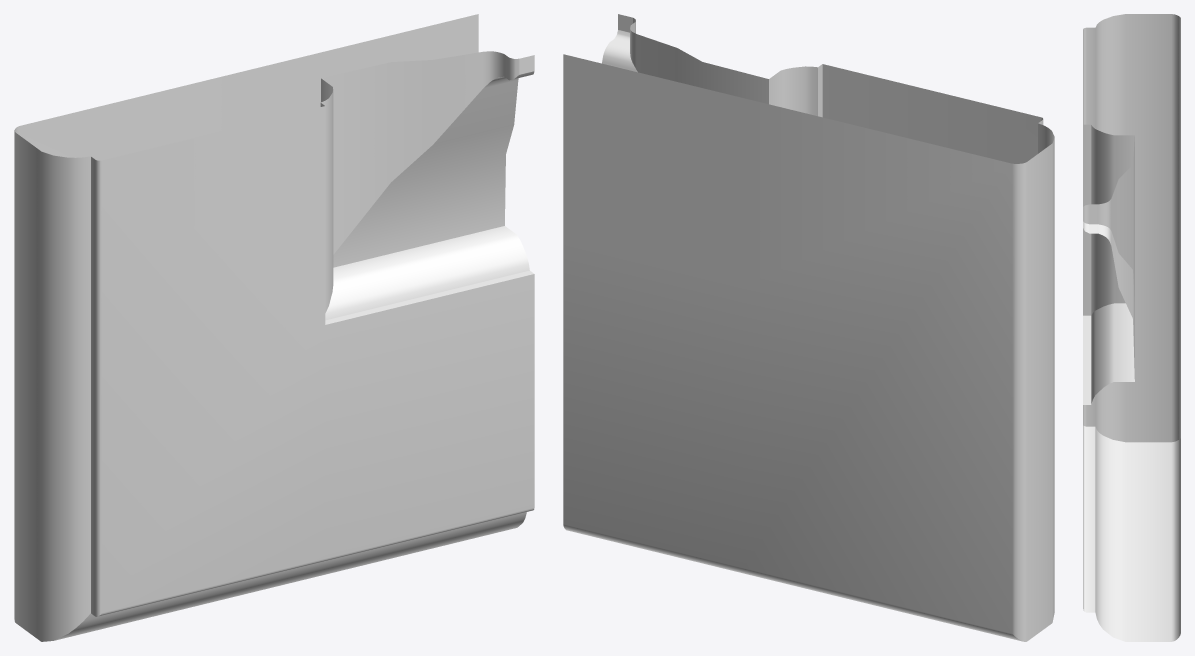
The model's file is original-44.obj.
The picture shows the model from 3 angles, left to right: view 1: azimuth 30°, elevation 25°; view 2: azimuth 150°, elevation 25°; view 3: azimuth 270°, elevation 25°; orthographic projection. The views are drawn at different scales.
Parts seen in each view (by area): view 1: DF_31_BL1/DF_31_BL/mesh23/mesh23-geometry#mesh23-geometry; view 2: DF_31_BL1/DF_31_BL/mesh23/mesh23-geometry#mesh23-geometry; view 3: DF_31_BL1/DF_31_BL/mesh23/mesh23-geometry#mesh23-geometry.
Boxes of the visible parts, left/top/right/bottom form: DF_31_BL1/DF_31_BL/mesh23/mesh23-geometry#mesh23-geometry: left=14, top=14, right=534, bottom=641; DF_31_BL1/DF_31_BL/mesh23/mesh23-geometry#mesh23-geometry: left=563, top=14, right=1054, bottom=641; DF_31_BL1/DF_31_BL/mesh23/mesh23-geometry#mesh23-geometry: left=1083, top=14, right=1180, bottom=641.
Bounding box in the file's own units: 0.1786 × 0.1786 × 0.037.
